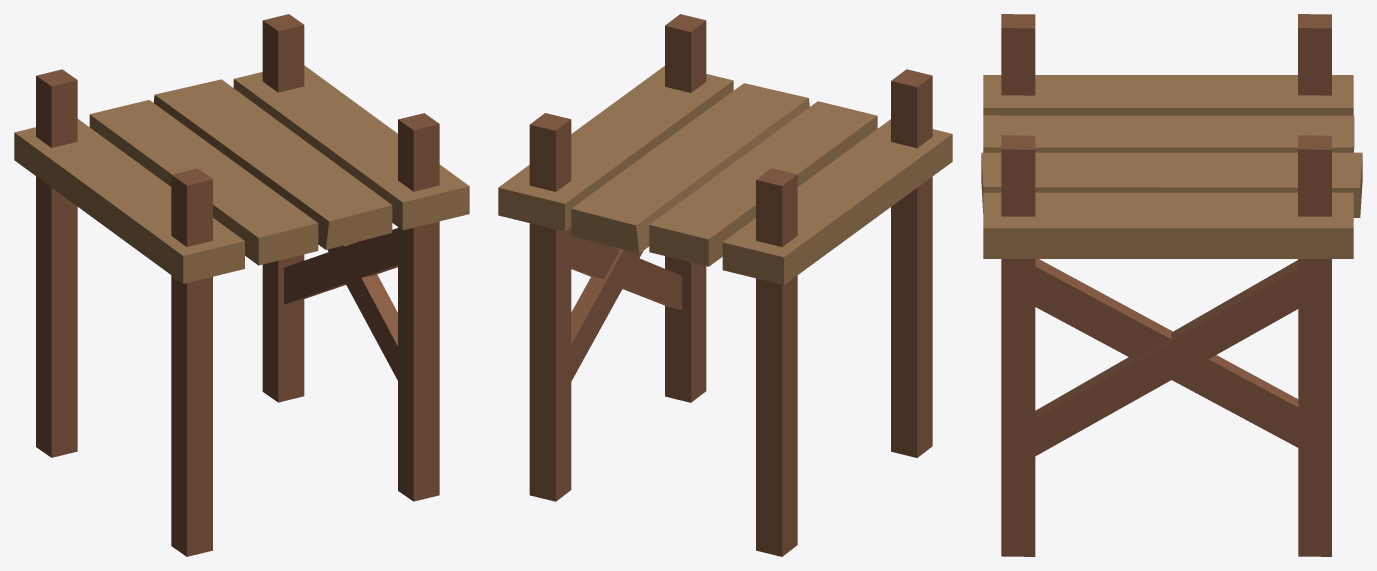
File: Scaffolding_02.fbx
3 renders of one model, left to right at view 1: azimuth 30°, elevation 25°; view 2: azimuth 150°, elevation 25°; view 3: azimuth 270°, elevation 25°, orthographic. The views are drawn at different scales.
Visible parts, largest first — view 1: Scaffolding_02; view 2: Scaffolding_02; view 3: Scaffolding_02.
Part boxes in pixels (x1,y1,x2,y2): Scaffolding_02: (14, 14, 469, 556); Scaffolding_02: (498, 14, 952, 556); Scaffolding_02: (981, 14, 1362, 556).
Size of the model in its own units: 194 by 241 by 204.
